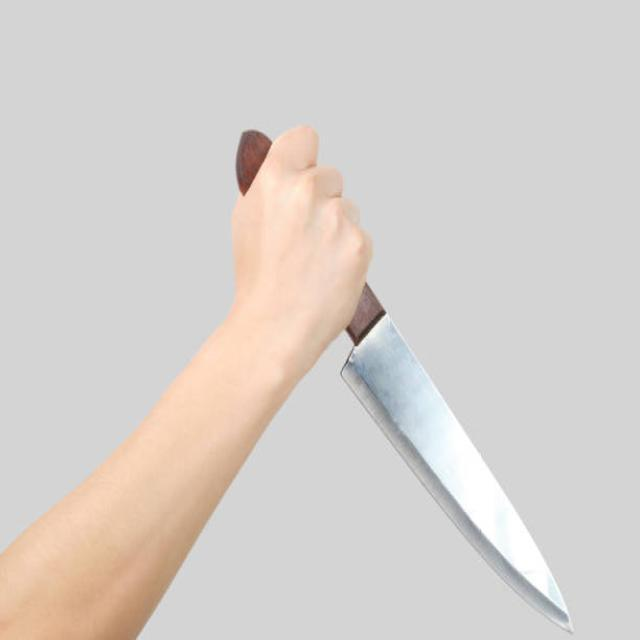faca: (218, 118, 574, 638)
